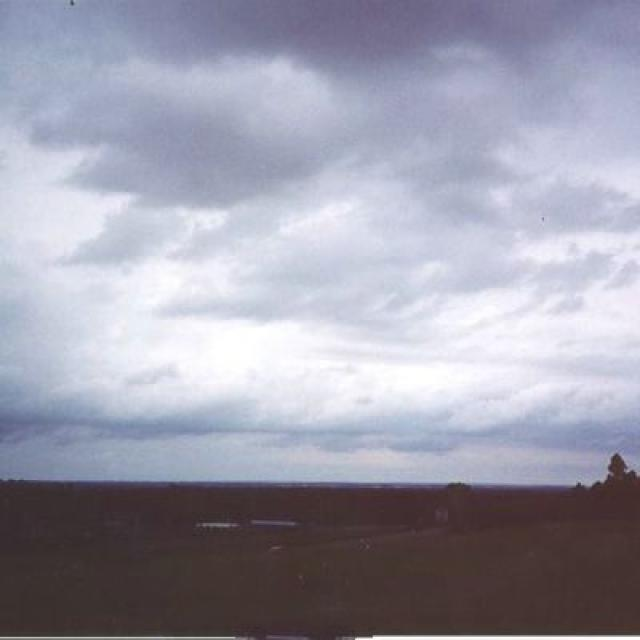St: (1, 1, 640, 369)
